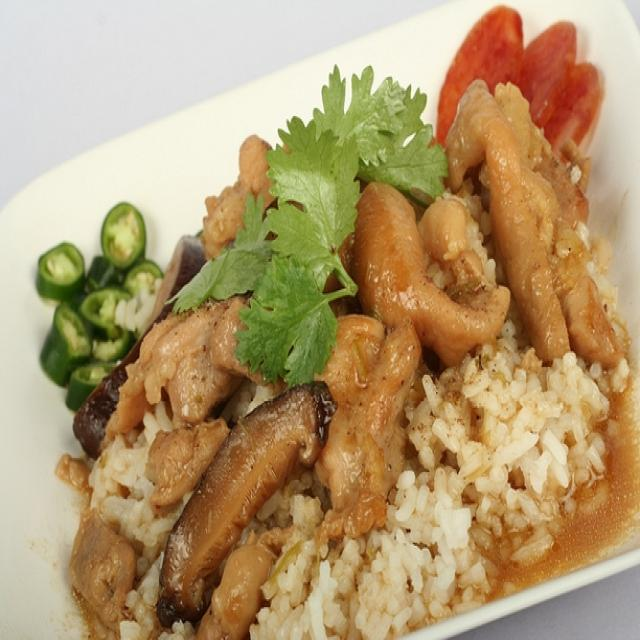米饭主食: (41, 31, 632, 626)
